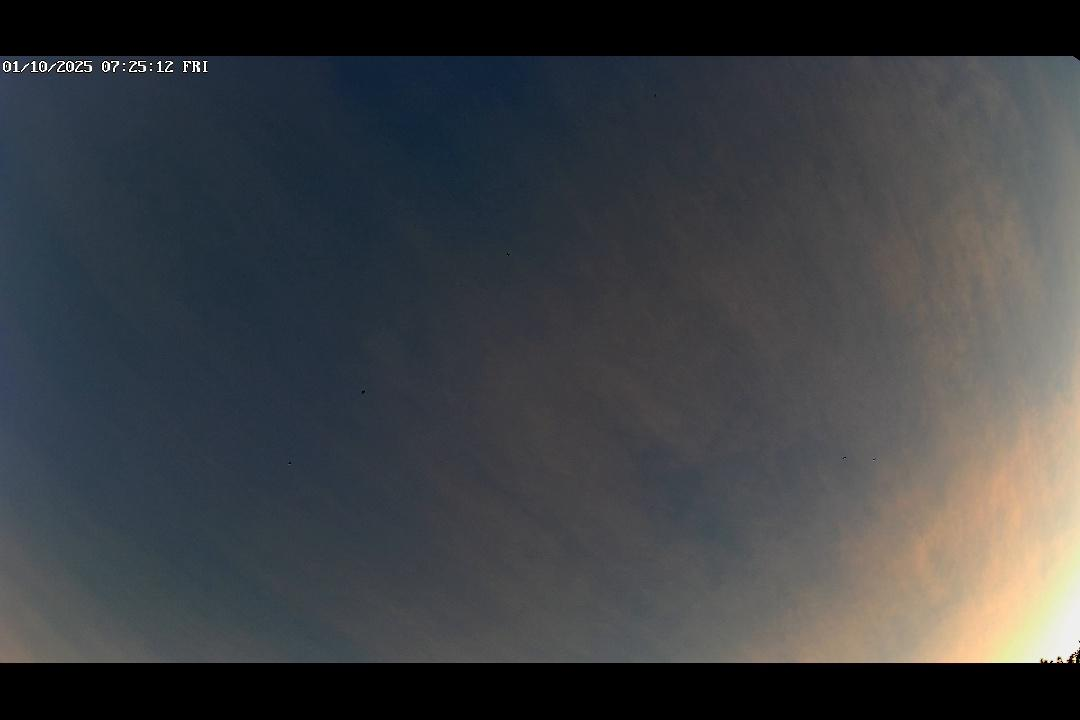WildLife: (345, 381, 380, 403), (648, 85, 664, 107), (280, 455, 300, 472), (503, 246, 515, 264), (866, 453, 882, 466), (837, 452, 852, 463)
